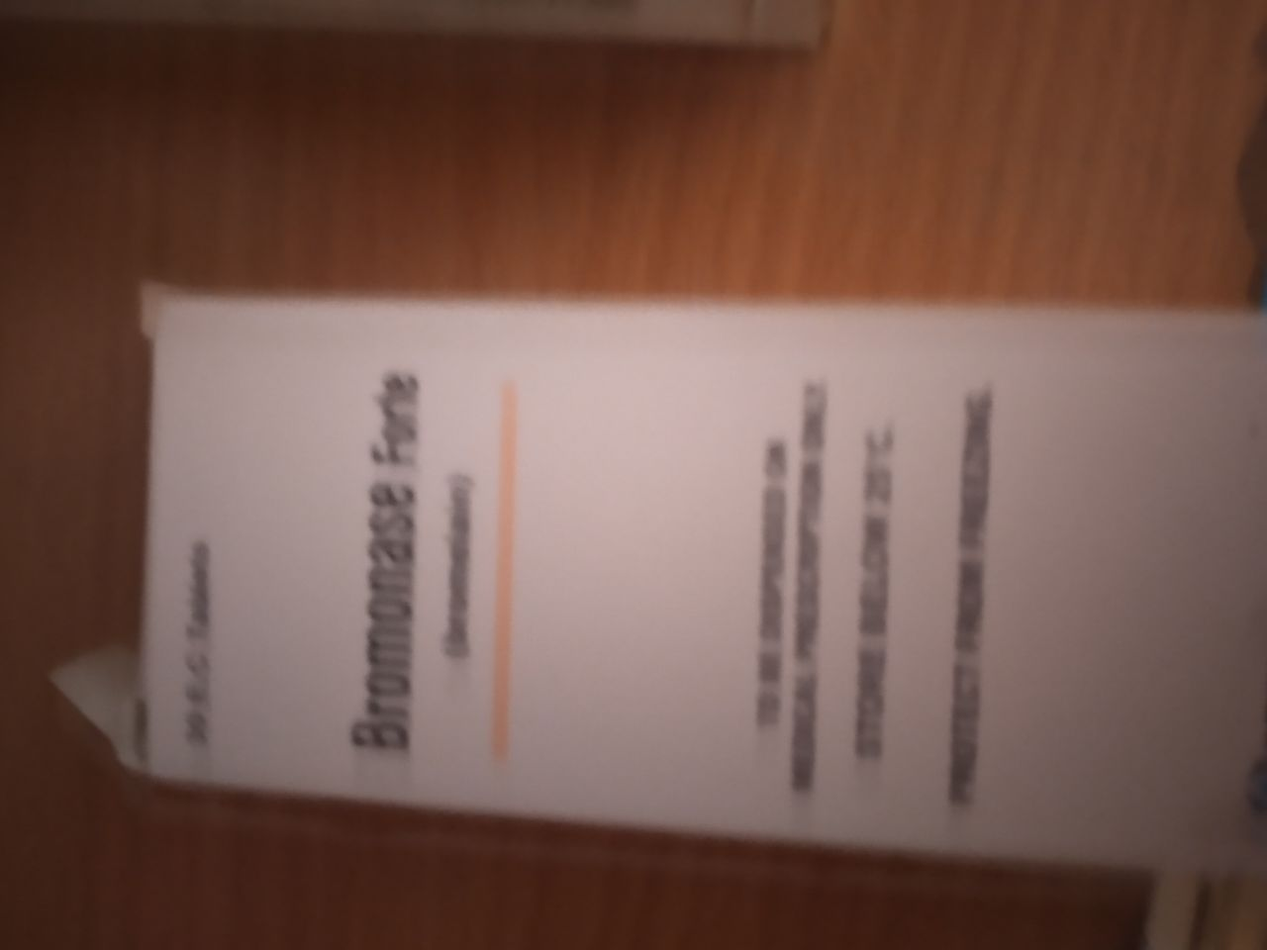Medicine: (129, 272, 1267, 871)
